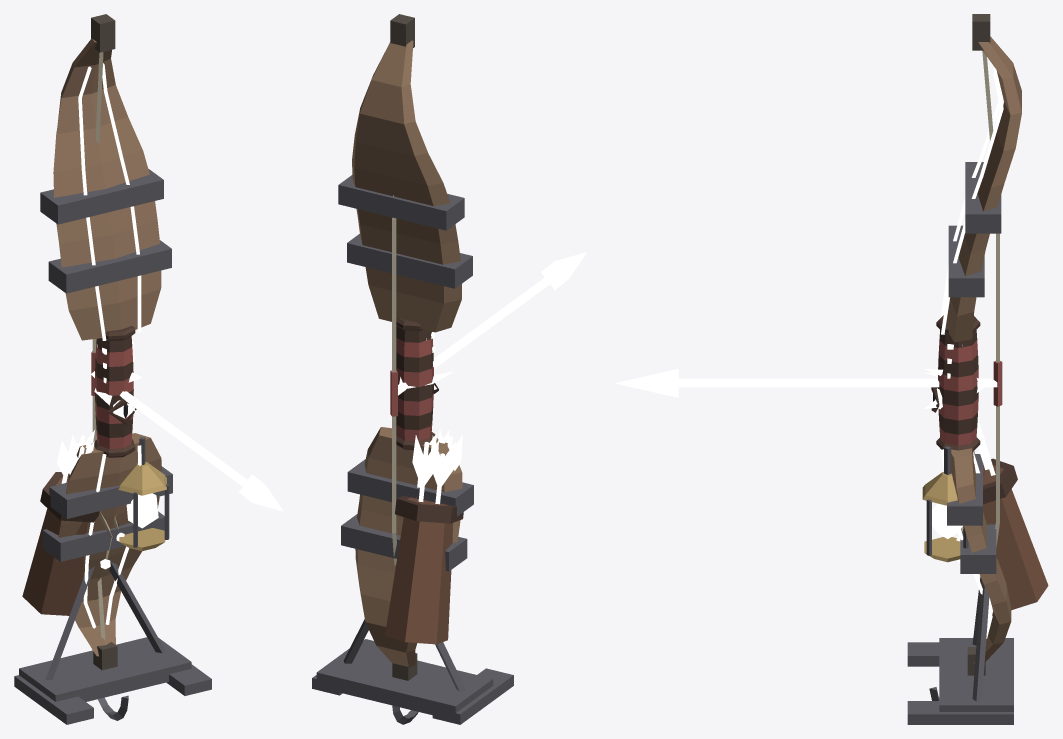
File: bow-tenders-bow.glb
3 views of the same model, side by side, from view 1: azimuth 30°, elevation 25°; view 2: azimuth 150°, elevation 25°; view 3: azimuth 270°, elevation 25° (orthographic). The views are drawn at different scales.
Visible parts, largest first — view 1: bow-tenders-bow, pulse_vein, pulse_arrow, string; view 2: bow-tenders-bow, pulse_arrow, string; view 3: bow-tenders-bow, pulse_arrow, pulse_vein, string.
Boxes of the visible parts, x1=… form: bow-tenders-bow: x1=14, y1=14, x2=211, y2=724; pulse_vein: x1=78, y1=63, x2=141, y2=628; pulse_arrow: x1=91, y1=371, x2=283, y2=511; string: x1=91, y1=52, x2=105, y2=640; bow-tenders-bow: x1=312, y1=14, x2=513, y2=724; pulse_arrow: x1=398, y1=252, x2=586, y2=395; string: x1=390, y1=195, x2=397, y2=565; bow-tenders-bow: x1=907, y1=14, x2=1048, y2=724; pulse_arrow: x1=615, y1=368, x2=997, y2=408; pulse_vein: x1=941, y1=67, x2=1003, y2=638; string: x1=982, y1=50, x2=1002, y2=600.
Bounding box in the file's own units: 0.32 × 1.46 × 0.8143.
